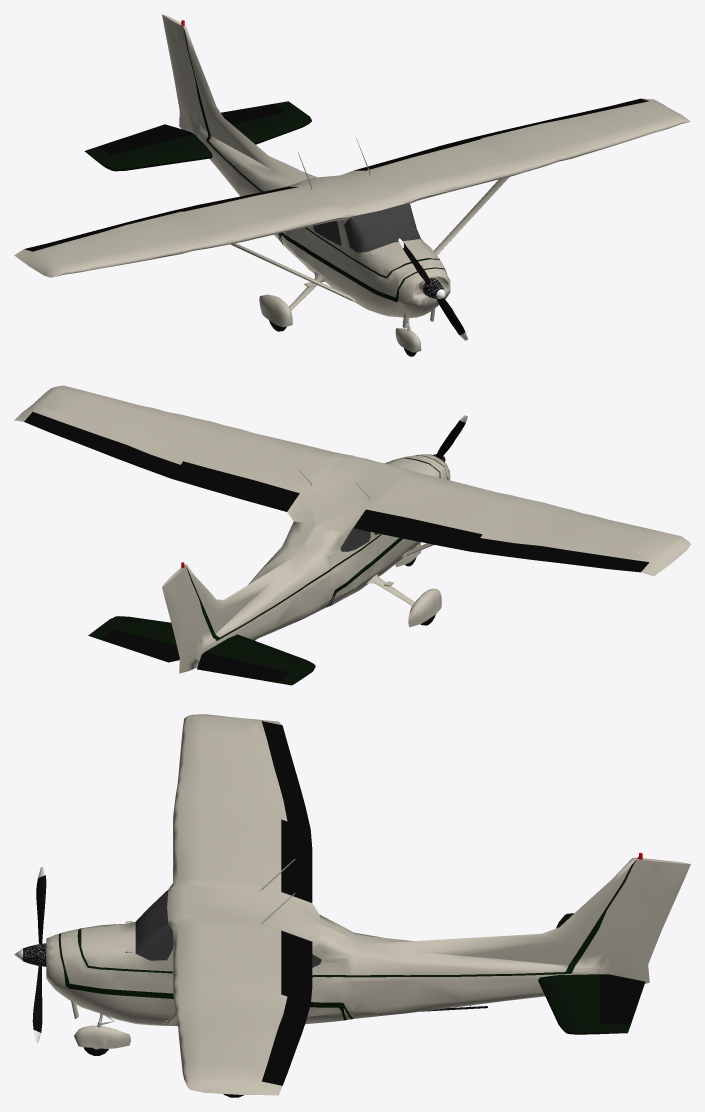
File: cessna_obj.obj
The picture shows the model from 3 angles, top to bottom: view 1: azimuth 30°, elevation 25°; view 2: azimuth 150°, elevation 25°; view 3: azimuth 270°, elevation 25°; orthographic projection. The views are drawn at different scales.
Visible parts, largest first — view 1: Cessna_ID806; view 2: Cessna_ID806; view 3: Cessna_ID806.
Part boxes in pixels (x1=…): Cessna_ID806: x1=14, y1=14, x2=690, y2=356; Cessna_ID806: x1=14, y1=385, x2=690, y2=685; Cessna_ID806: x1=14, y1=714, x2=690, y2=1097.
Size of the model in its own units: 11.03 by 2.77 by 8.42.
